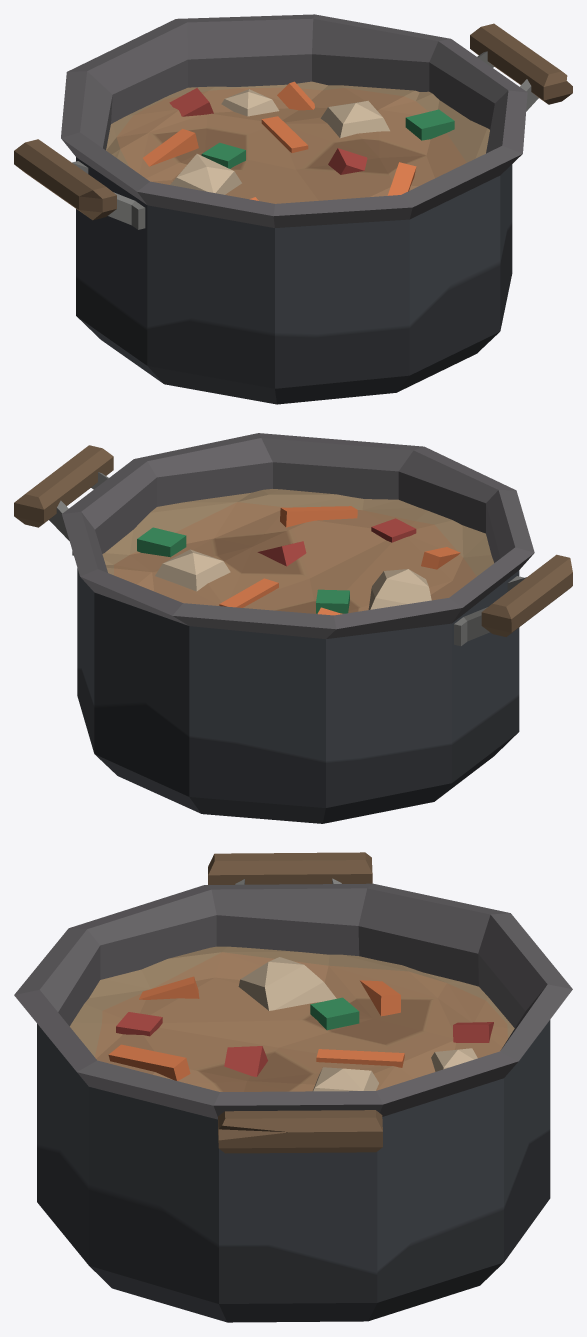
Rendered from SM_Saucepan.gltf.
3 renders of one model, top to bottom at view 1: azimuth 30°, elevation 25°; view 2: azimuth 150°, elevation 25°; view 3: azimuth 270°, elevation 25°, orthographic. The views are drawn at different scales.
Parts seen in each view (by area): view 1: SM_Saucepan, SM_Saucepa_Food; view 2: SM_Saucepan, SM_Saucepa_Food; view 3: SM_Saucepan, SM_Saucepa_Food.
Boxes of the visible parts, x1,y1,x2,y2 form: SM_Saucepan: (14,14,572,404); SM_Saucepa_Food: (106,81,489,203); SM_Saucepan: (14,433,572,823); SM_Saucepa_Food: (102,489,493,615); SM_Saucepan: (14,852,572,1322); SM_Saucepa_Food: (70,946,514,1091).
Size of the model in its own units: 0.5119 by 0.2152 by 0.4392.
1 material, 1 textured.
